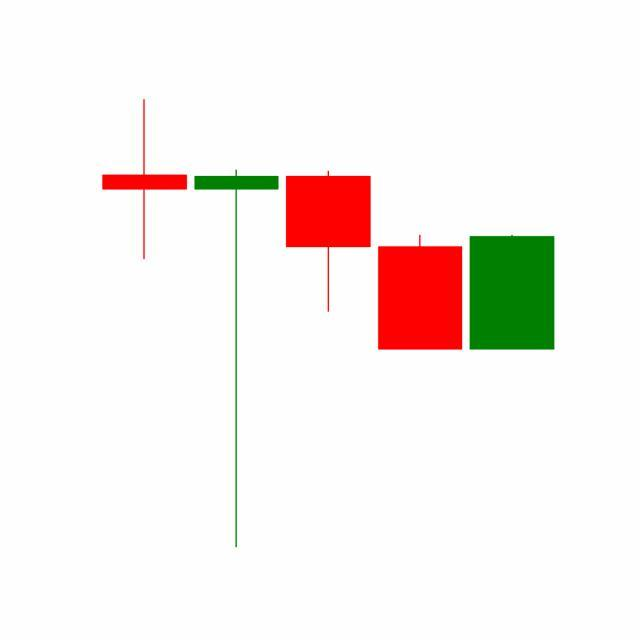Marubozu: (374, 234, 468, 352)
